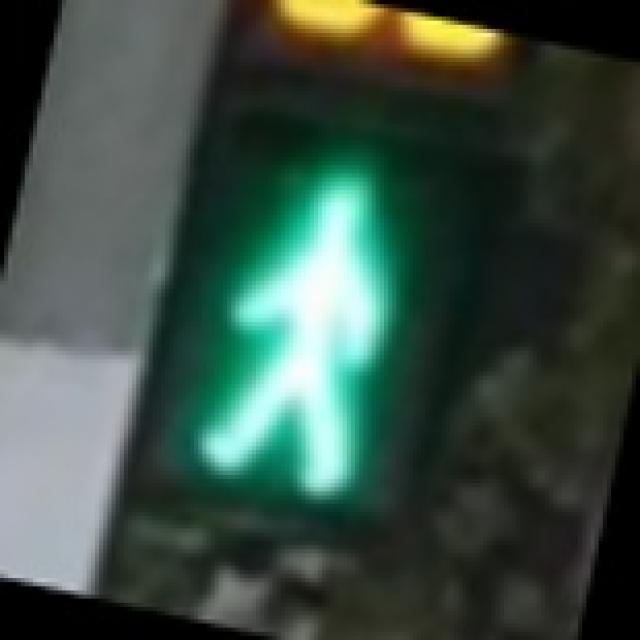geen-crossing: (132, 79, 496, 558)
